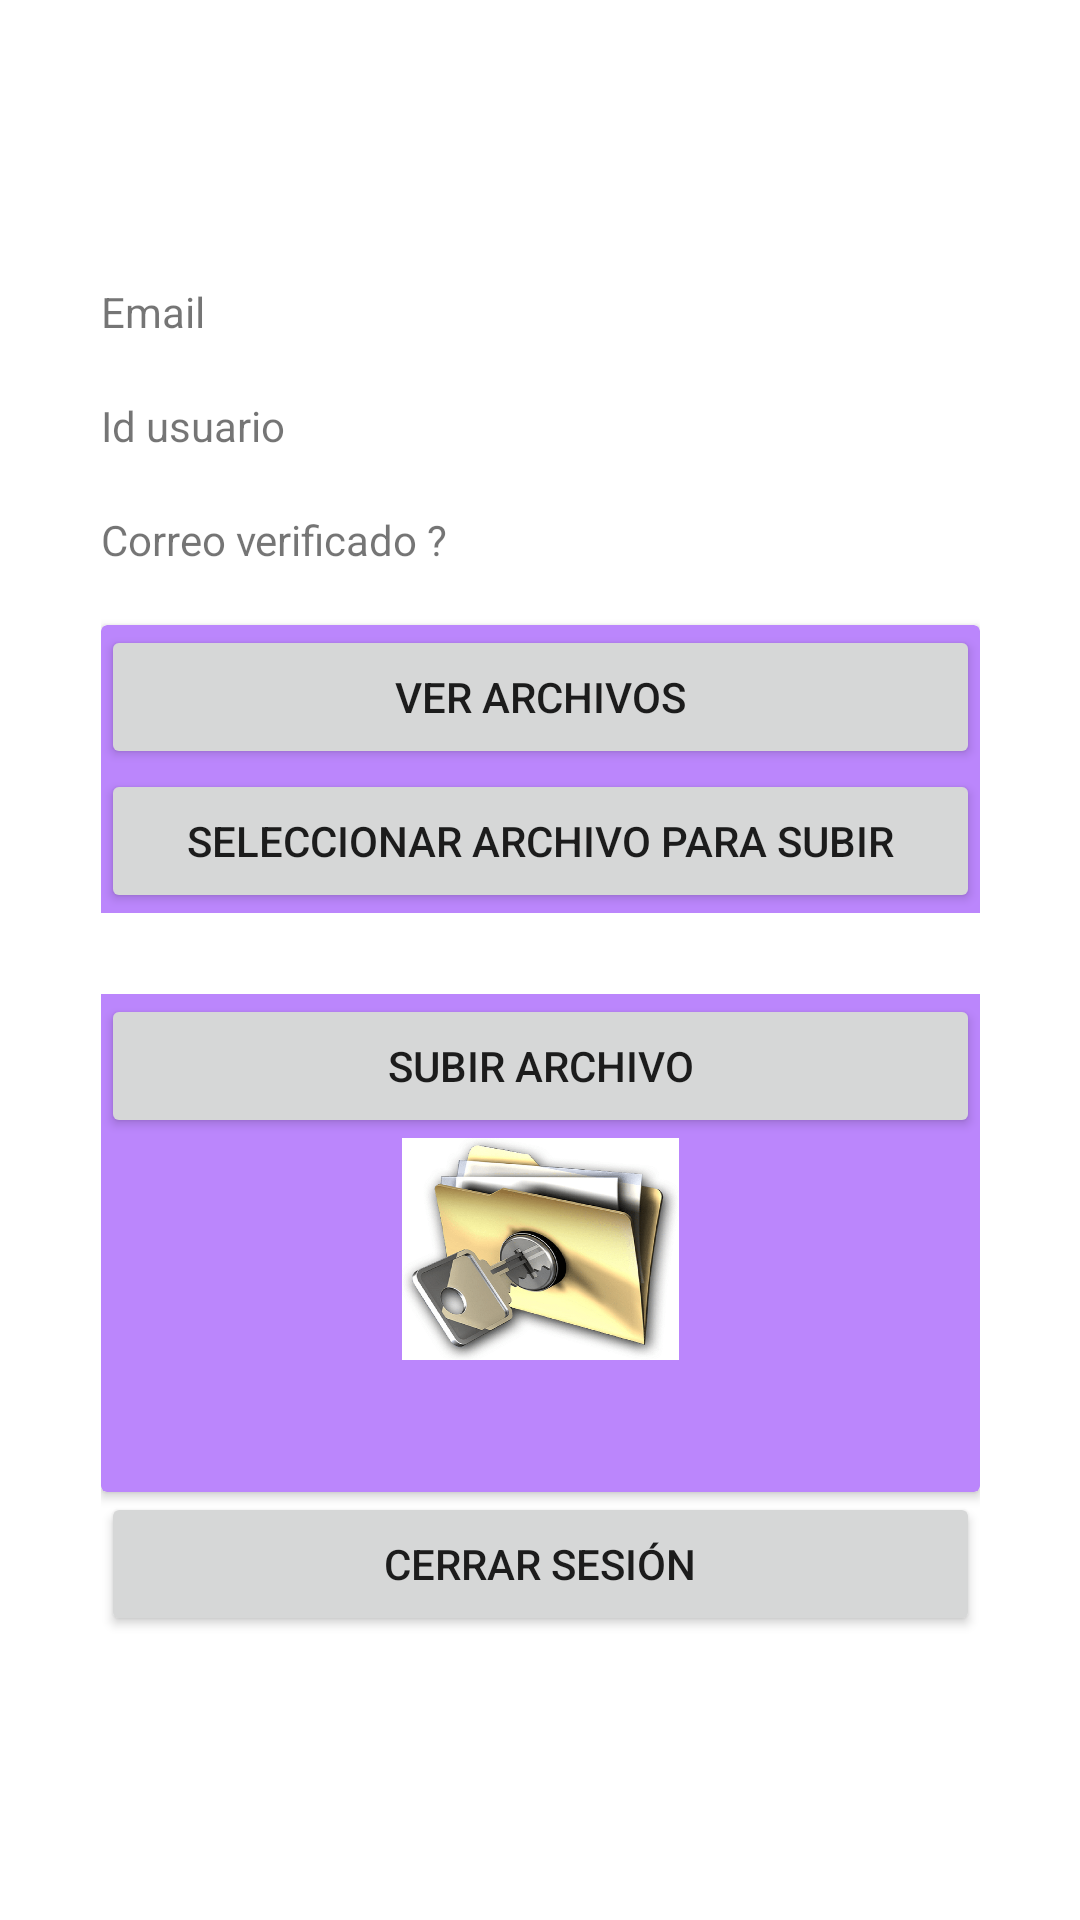

Point at icon controls on the screen. Image size 1080w x 1920h, points as (x=x, y=y).
cifrado archivos: (x=540, y=1249)
